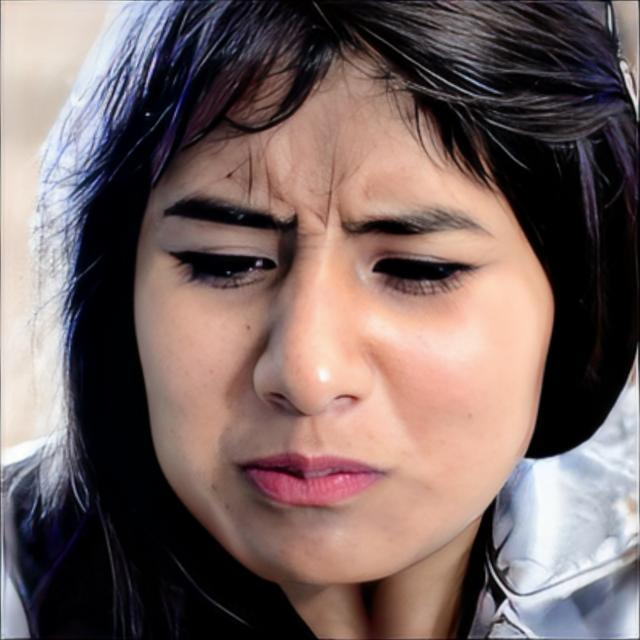disgust: (132, 41, 556, 587)
